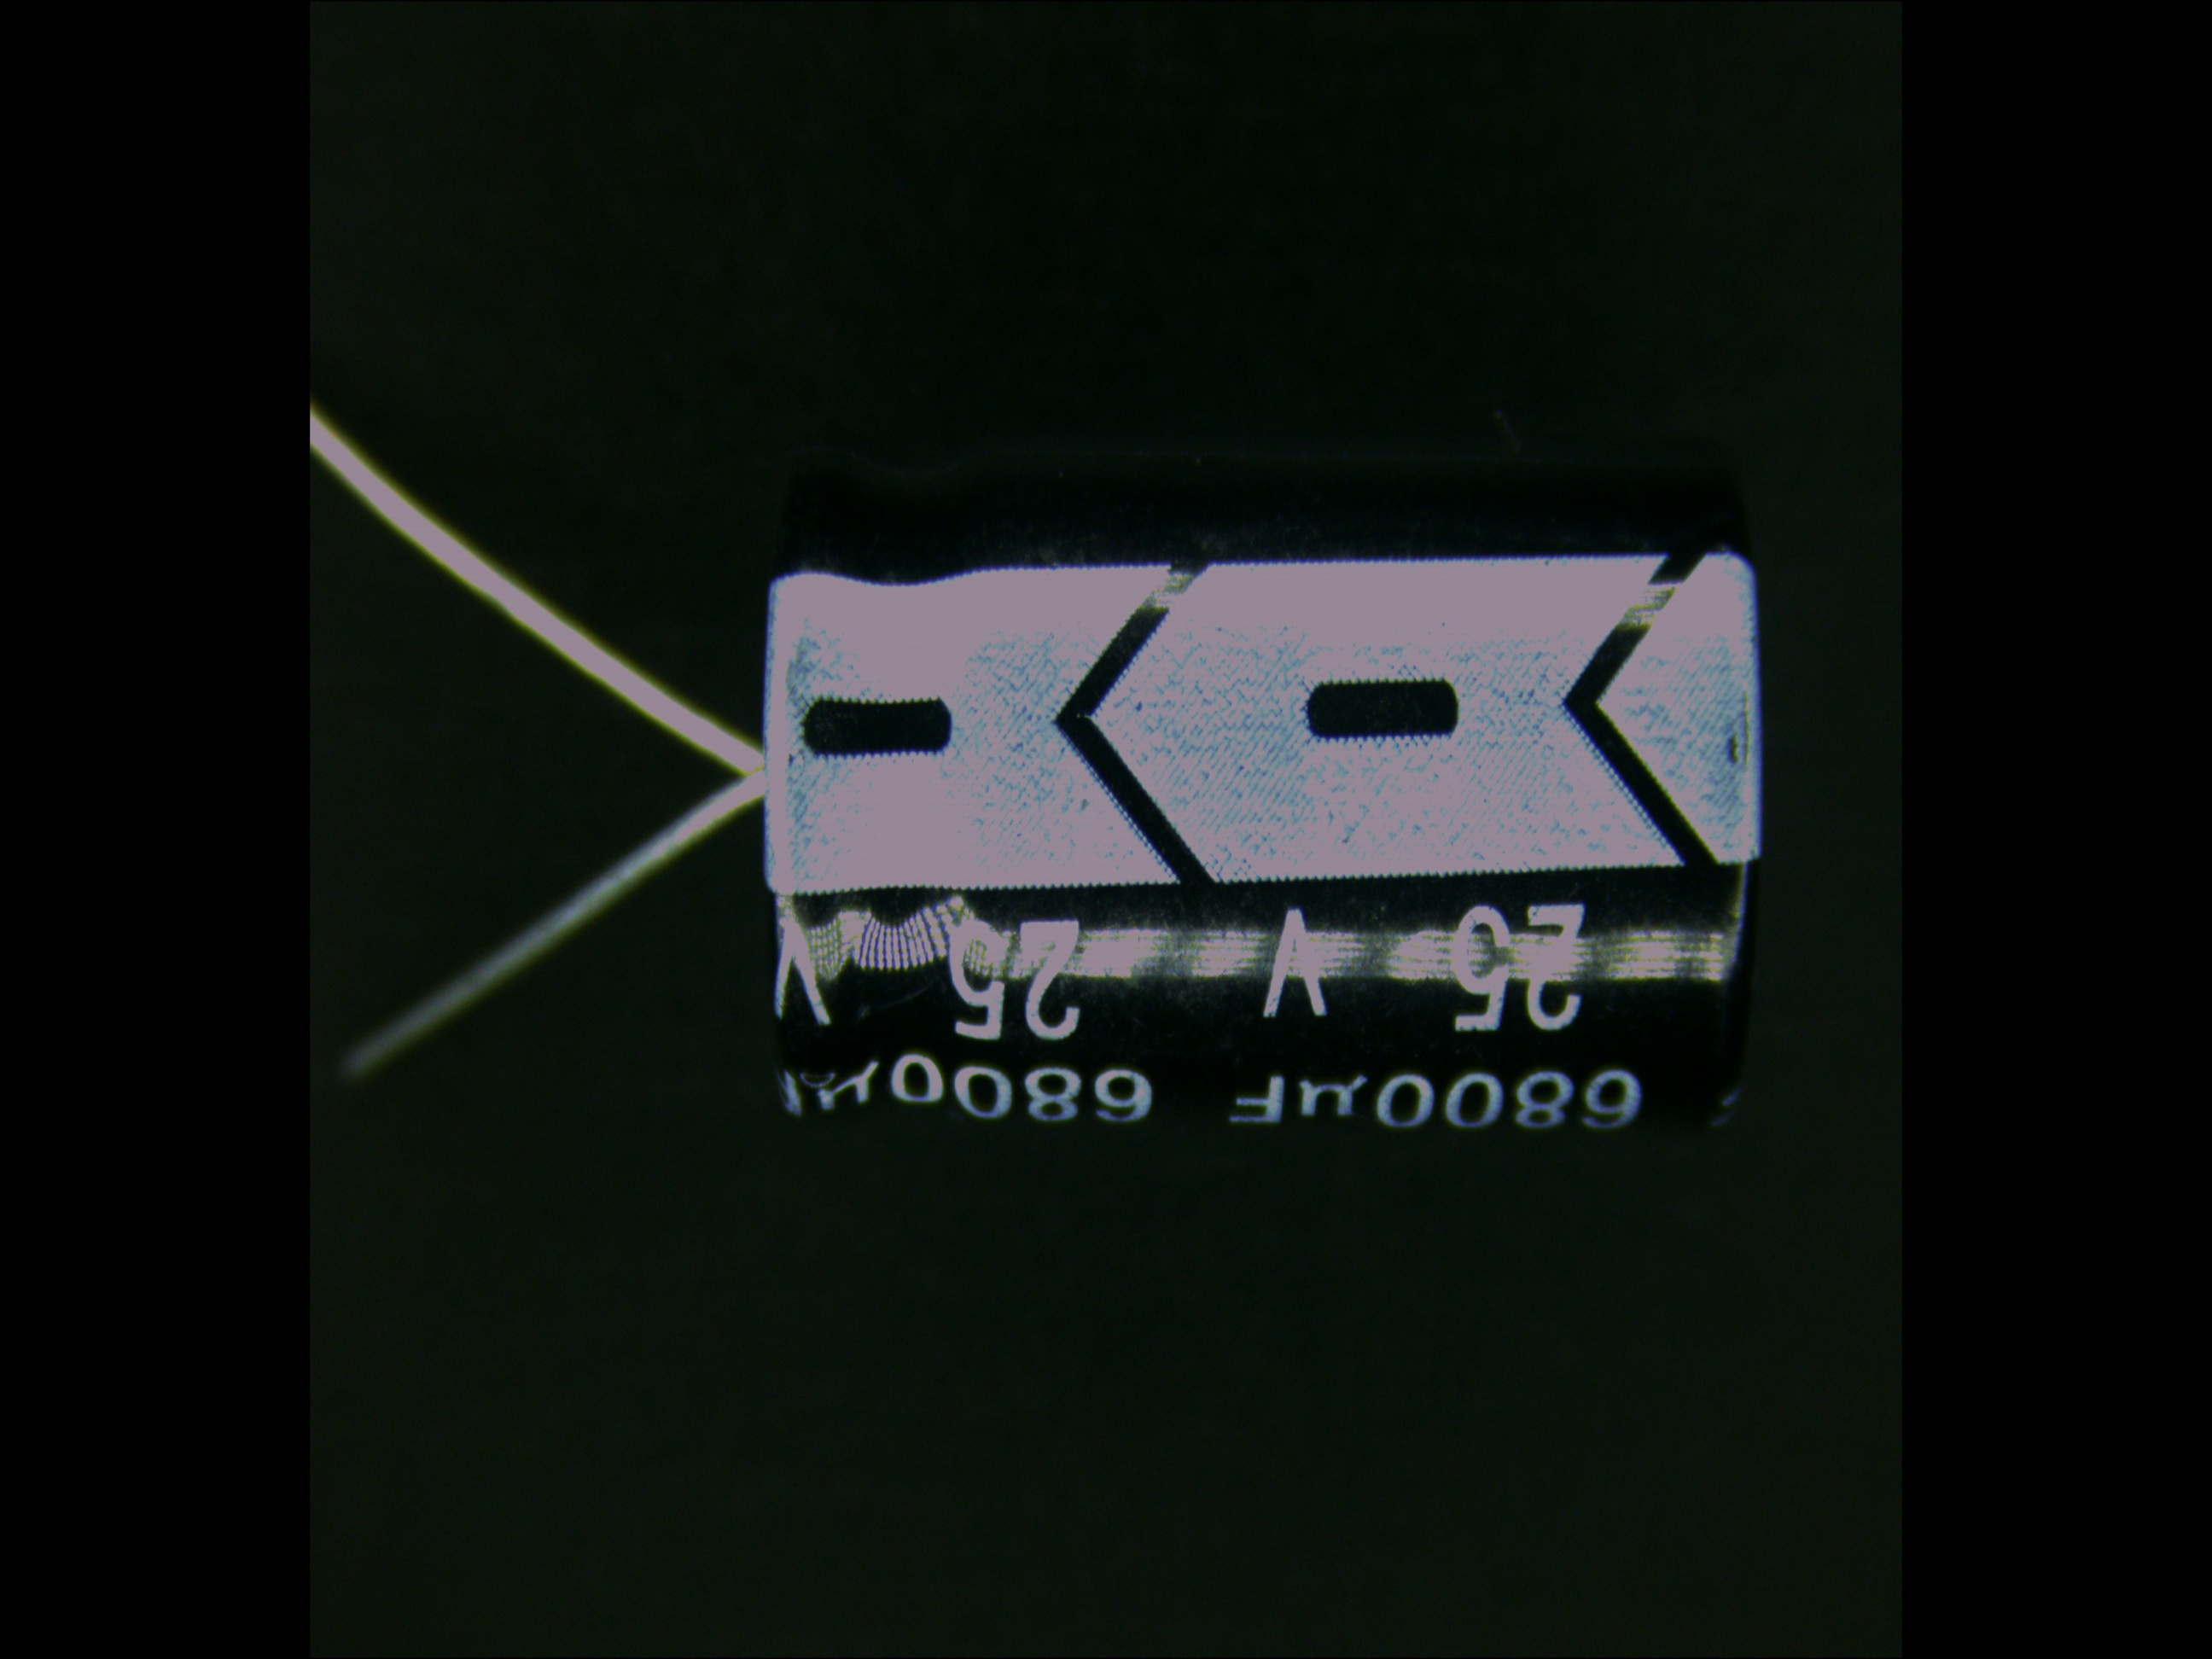c3: (531, 420, 1770, 1152)
